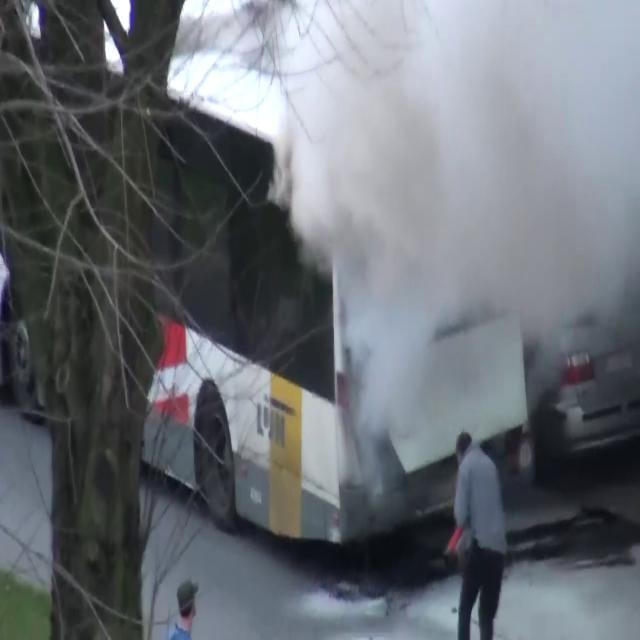Smoke: (256, 0, 640, 464)
